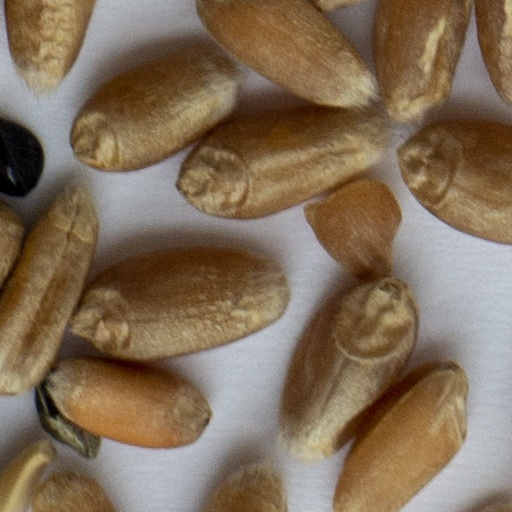Wheat-grain-damaged-poly: (301, 177, 404, 279)
